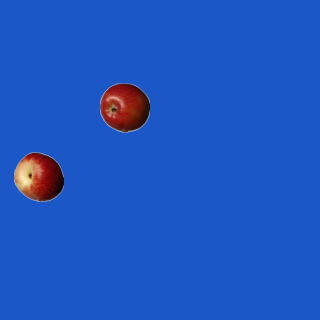Apple Braeburn: (99, 82, 149, 132)
Nectarine: (13, 151, 63, 201)
